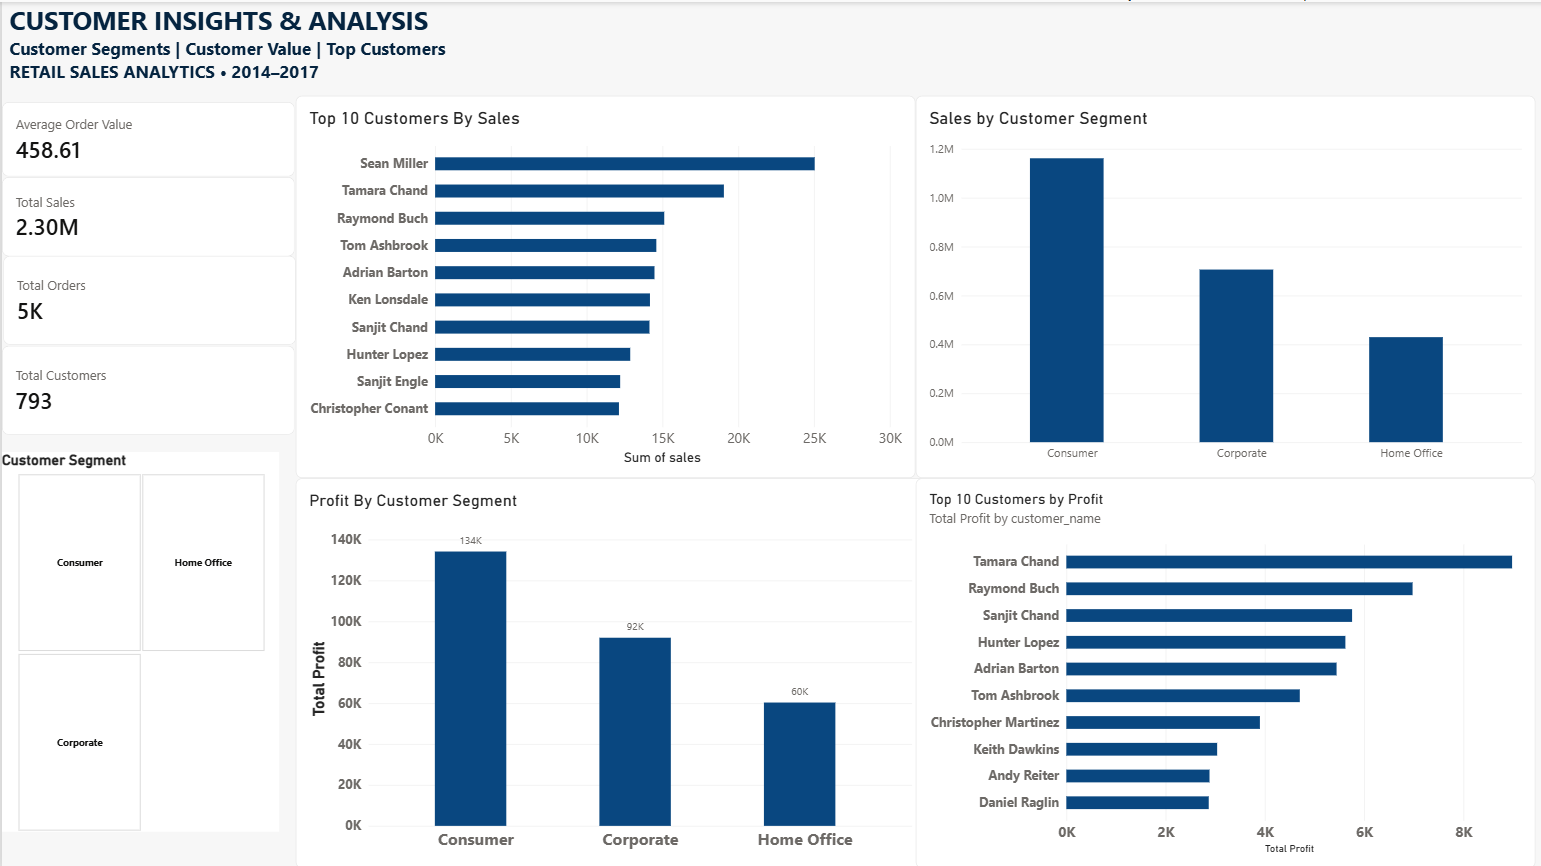

The dashboard page shown, as its layout file describes it:
{"tool":"powerbi","page":{"name":"Page 2","canvas":[1920,1080],"ordinal":1},"visuals":[{"type":"textbox","box":[9.5,0,1910.5,125.1],"z":0},{"type":"cardVisual","fields":{"Data":["superstore_cleaned.Average Order Value"]},"box":[0,124.3,365.6,93.7],"z":1},{"type":"cardVisual","fields":{"Data":["superstore_cleaned.Total Customers"]},"box":[0,428.7,365.6,111.7],"z":2},{"type":"cardVisual","fields":{"Data":["superstore_cleaned.Total Orders"]},"box":[1.8,317,365.6,111.7],"z":3},{"type":"cardVisual","fields":{"Data":["superstore_cleaned.Total Sales"]},"box":[0,217.9,365.6,99.1],"z":4},{"type":"clusteredColumnChart","title":"Sales by Customer Segment","fields":{"Category":["superstore_cleaned.segment"],"Y":["Sum(superstore_cleaned.sales)"]},"box":[1139,117.2,773.1,476.8],"z":5},{"type":"clusteredBarChart","title":"Top 10 Customers By Sales","fields":{"Category":["superstore_cleaned.customer_name"],"Y":["Sum(superstore_cleaned.sales)"]},"box":[365.9,117.2,773.1,476.8],"z":6},{"type":"slicer","title":"Customer Segment","fields":{"Values":["superstore_cleaned.segment"]},"box":[0,562,345.8,473.7],"z":7},{"type":"clusteredColumnChart","title":"Profit By Customer Segment","fields":{"Category":["superstore_cleaned.segment"],"Y":["superstore_cleaned.Total Profit"]},"box":[365.6,594.4,785.7,486.3],"z":8},{"type":"clusteredBarChart","title":"Top 10 Customers by Profit","fields":{"Category":["superstore_cleaned.customer_name"],"Y":["superstore_cleaned.Total Profit"]},"box":[1139,594.1,773.1,486.3],"z":9}]}

Visuals, with their boxes in screenshot pixels (x1, y1, x2, y2), scaled from the page's 1920x1080 canvas onto the 1541x866 screenshot:
textbox: l=8, t=0, r=1540, b=100
cardVisual - superstore_cleaned.Average Order Value: l=0, t=100, r=293, b=175
cardVisual - superstore_cleaned.Total Customers: l=0, t=344, r=293, b=433
cardVisual - superstore_cleaned.Total Orders: l=1, t=254, r=295, b=344
cardVisual - superstore_cleaned.Total Sales: l=0, t=175, r=293, b=254
"Sales by Customer Segment" clusteredColumnChart: l=914, t=94, r=1535, b=476
"Top 10 Customers By Sales" clusteredBarChart: l=294, t=94, r=914, b=476
"Customer Segment" slicer: l=0, t=451, r=278, b=830
"Profit By Customer Segment" clusteredColumnChart: l=293, t=477, r=924, b=865
"Top 10 Customers by Profit" clusteredBarChart: l=914, t=476, r=1535, b=865
